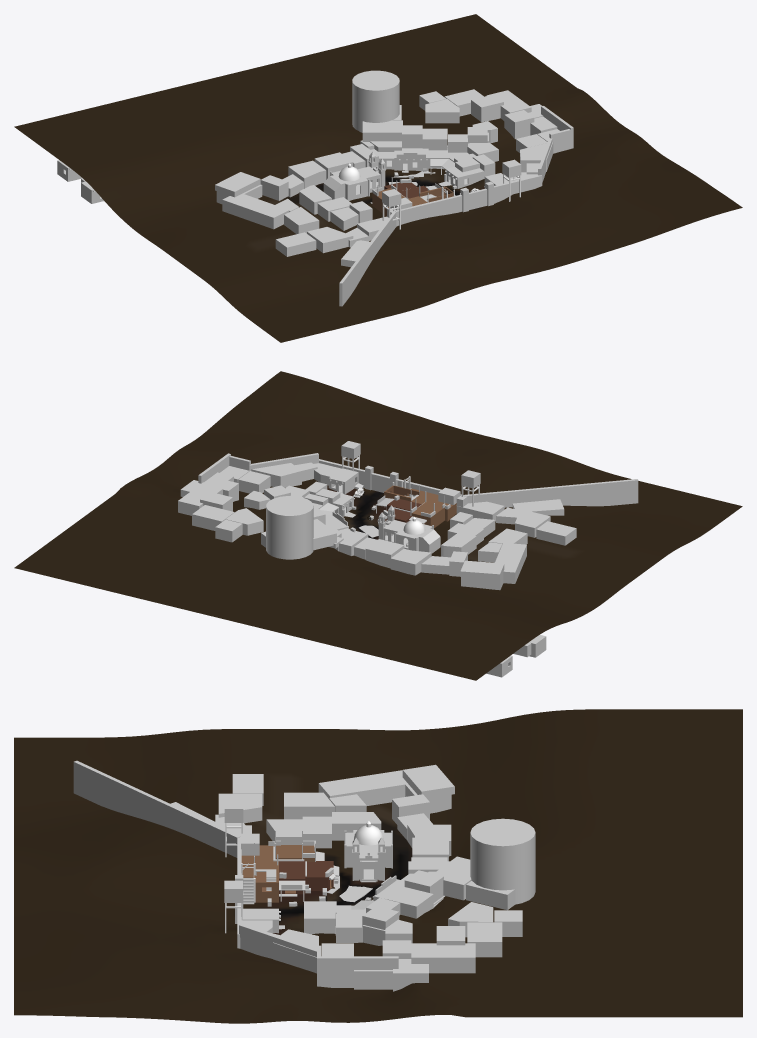
Rendered from w5-assignment.fbx.
3 views of the same model, one above another, from view 1: azimuth 30°, elevation 25°; view 2: azimuth 150°, elevation 25°; view 3: azimuth 270°, elevation 25° (orthographic). The views are drawn at different scales.
Parts seen in each view (by area): view 1: terrain_w5, tower, pCube103, pCube15, pCube3 (×2), pCube268, pCube14, polySurface1, pCube99, pCube107, pCube97, pCube124 (+11 smaller); view 2: terrain_w5, pCube15, tower, polySurface1, pCube268, pCube103, pCube86, pCube385, pCube384, pCube124, pCube123, pCube96 (+10 smaller); view 3: terrain_w5, pCube15, tower, polySurface1, pCube103, pCube117, pCube94, pCube13, pCube123, pCube105, pCube86, pCube96 (+24 smaller).
Part boxes in pixels (x1,y1,x2,y2): terrain_w5: [14, 14, 742, 342]; tower: [352, 70, 399, 132]; pCube103: [222, 193, 289, 229]; pCube15: [339, 211, 396, 306]; pCube3 (×2): [394, 148, 484, 188]; pCube268: [323, 166, 380, 200]; pCube14: [395, 195, 462, 226]; polySurface1: [372, 182, 453, 216]; pCube99: [362, 120, 402, 141]; pCube107: [307, 227, 353, 253]; pCube97: [425, 99, 459, 123]; pCube124: [275, 232, 316, 256]; terrain_w5: [14, 371, 742, 680]; pCube15: [464, 479, 638, 507]; tower: [266, 496, 313, 559]; polySurface1: [384, 485, 456, 527]; pCube268: [383, 520, 440, 553]; pCube103: [495, 543, 526, 583]; pCube86: [251, 463, 301, 487]; pCube385: [390, 548, 431, 575]; pCube384: [365, 539, 404, 568]; pCube124: [536, 521, 576, 545]; pCube123: [460, 560, 504, 579]; pCube96: [192, 505, 234, 530]; terrain_w5: [14, 709, 742, 1023]; pCube15: [73, 760, 240, 857]; tower: [470, 818, 535, 904]; polySurface1: [241, 845, 333, 902]; pCube103: [318, 770, 407, 805]; pCube117: [317, 956, 398, 987]; pCube94: [411, 943, 475, 973]; pCube13: [239, 924, 316, 958]; pCube123: [402, 764, 454, 798]; pCube105: [284, 792, 334, 819]; pCube86: [273, 929, 318, 973]; pCube96: [467, 922, 502, 957].
Size of the model in its own units: 188 by 29.48 by 188.
